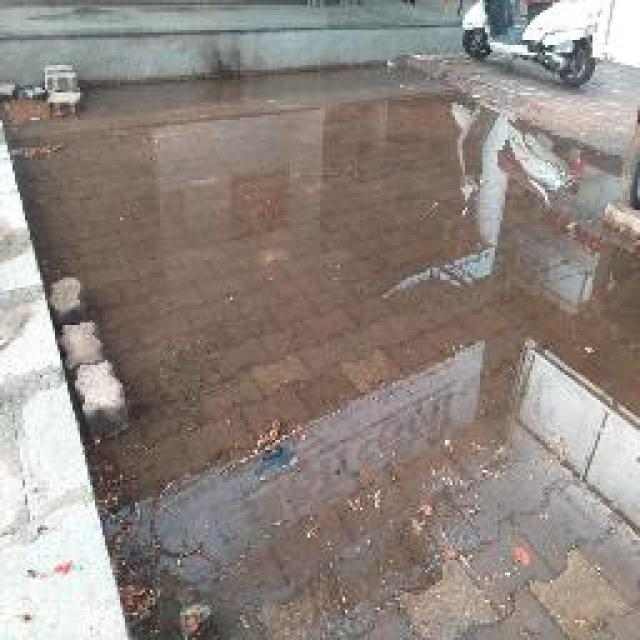stagnation: (127, 89, 538, 384)
